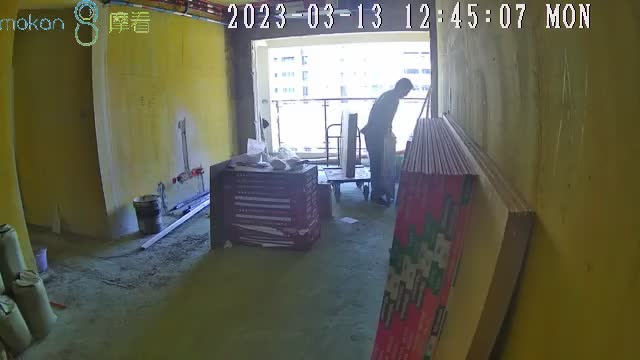people: (359, 78, 413, 205)
window: (263, 38, 432, 158)
